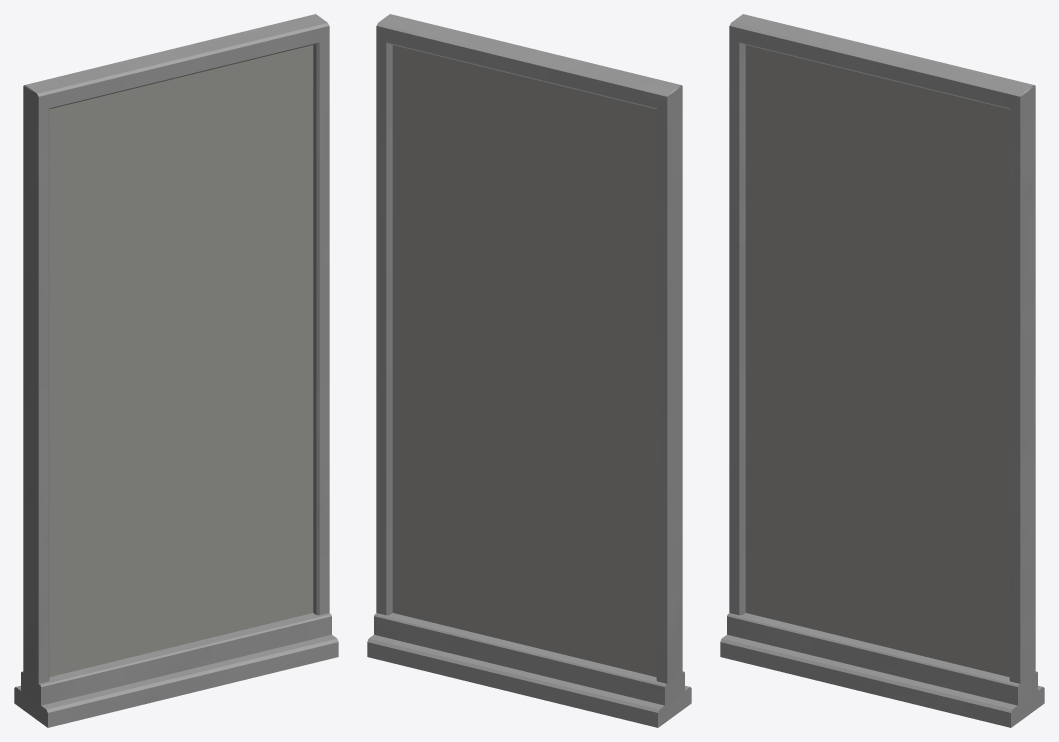
3 renders of one model, left to right at view 1: azimuth 30°, elevation 25°; view 2: azimuth 150°, elevation 25°; view 3: azimuth 330°, elevation 25°, orthographic.
Size of the model in its own units: 10 by 20.57 by 2.
Materials: 2 (2 with a texture image).
